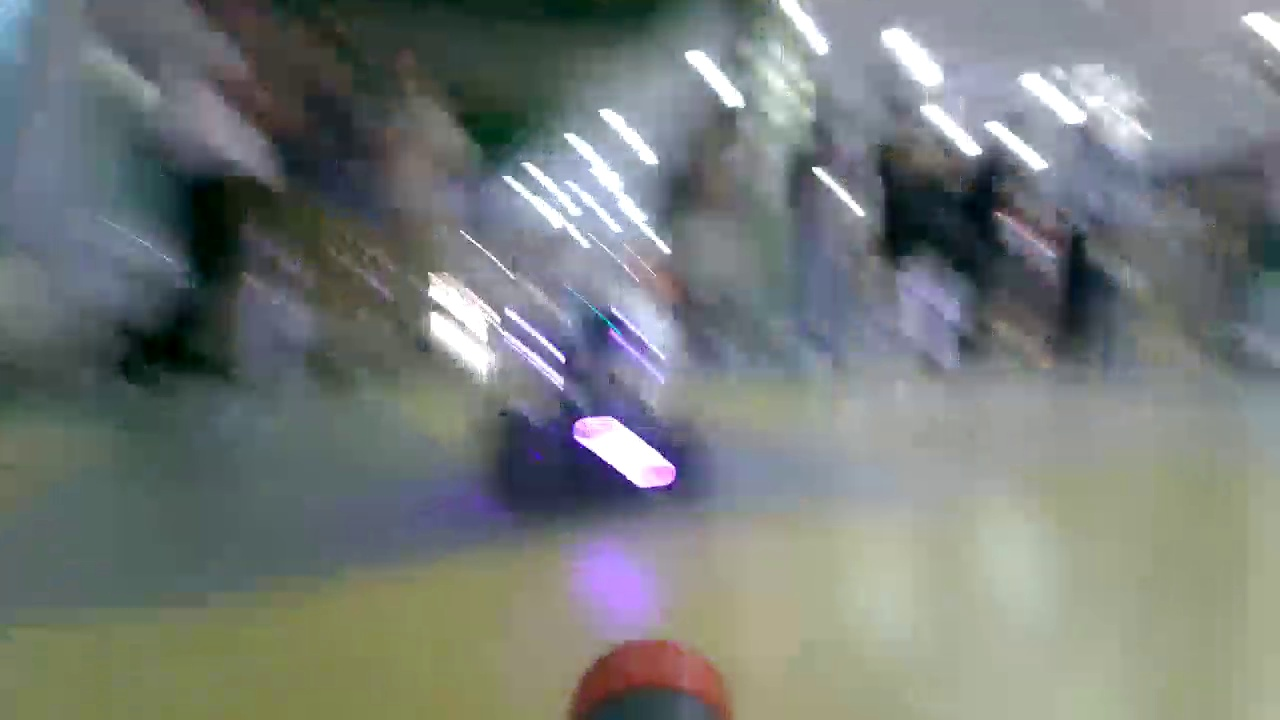robot: (487, 309, 701, 510)
